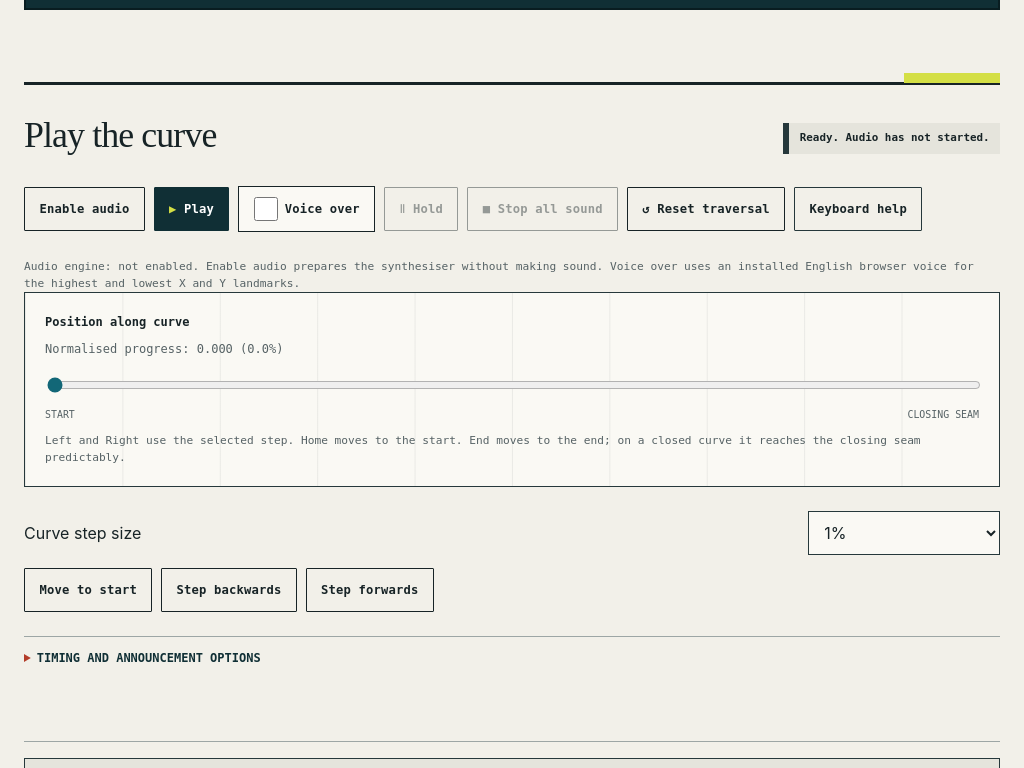
Scenario: TIMUDS workspace › keeps native controls and applies guarded workspace shortcuts
The width and height of the screenshot is (1024, 768).
(page scrolled)
Set the slider labelled "Position along curve" to "0.01": [64, 385] box [47,369,981,401]
(page scrolled)
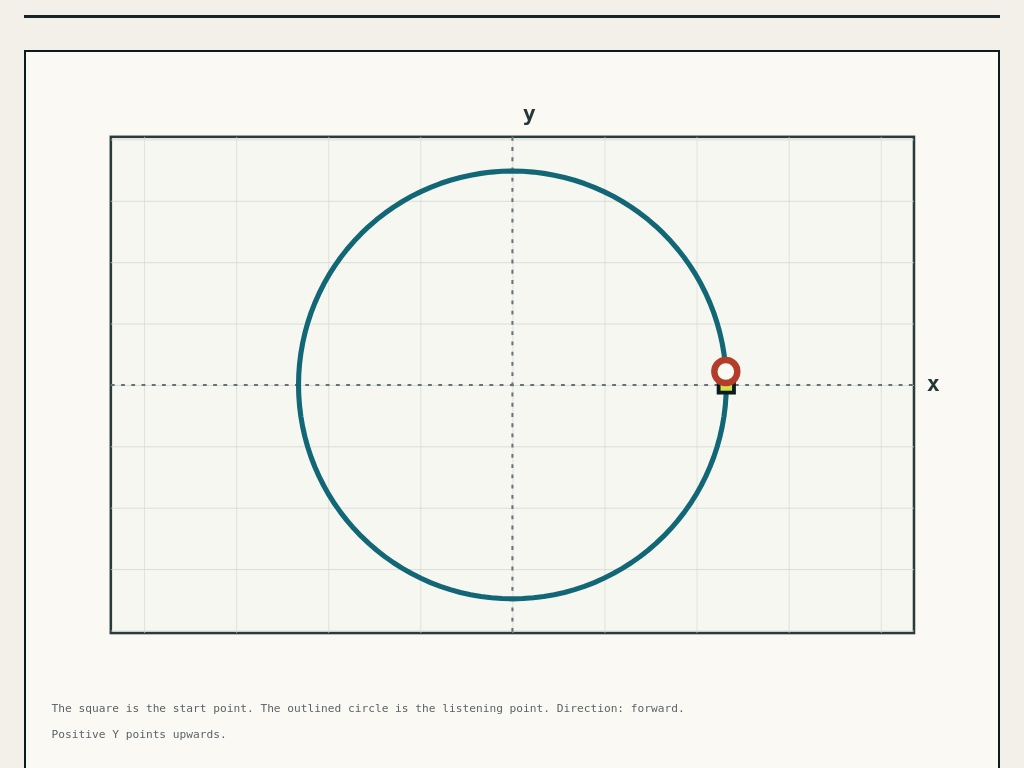
Press Arrowright
(page scrolled)
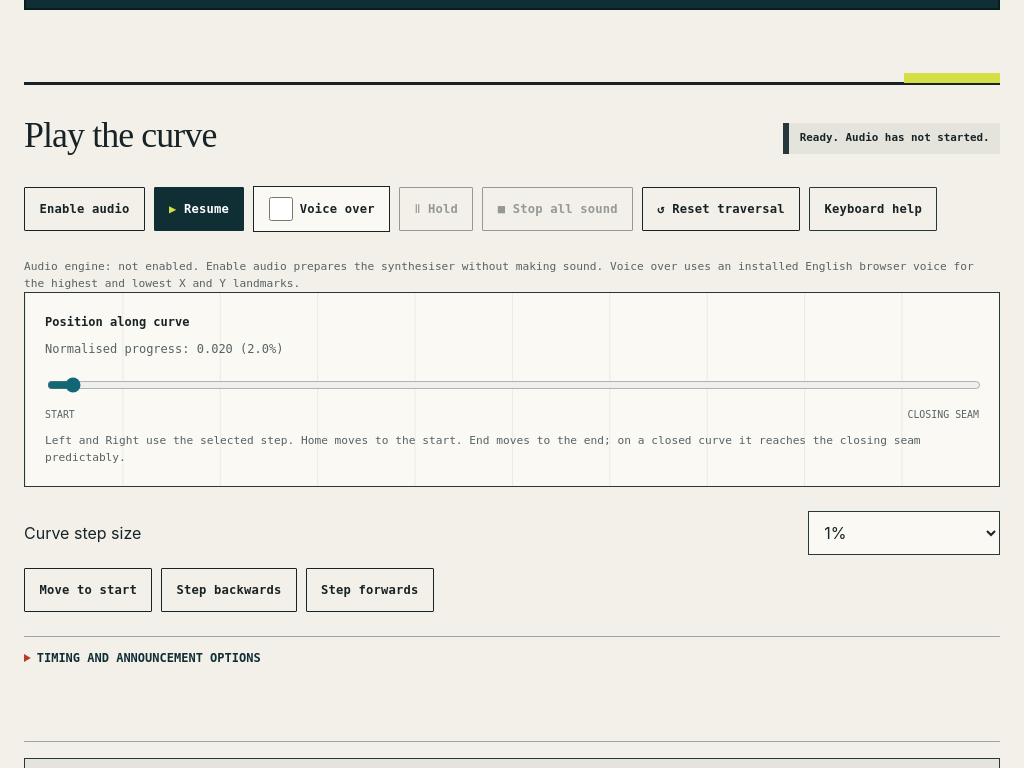
Expected: the slider labelled "Position along curve" holds "0.02", [47,369,981,401]
